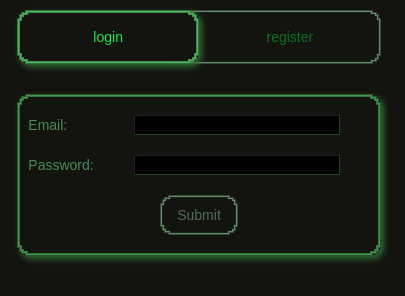
it: LoginForm — login mode › shows error message on email blur when format invalid
Type "bad-email" into the field labelled "Email:" at (237, 125), box [134,115,340,135]
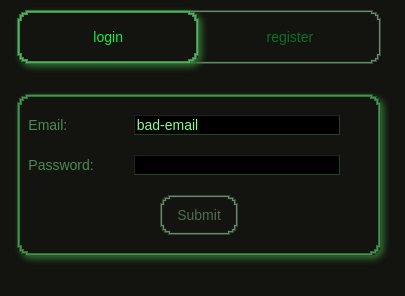
Leave the field labelled "Email:", box [134,115,340,135]
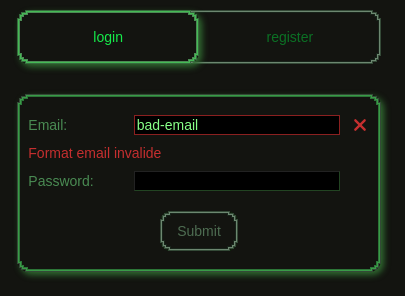
Expected: the text "Format email invalide" is shown, [28,145,161,161]
